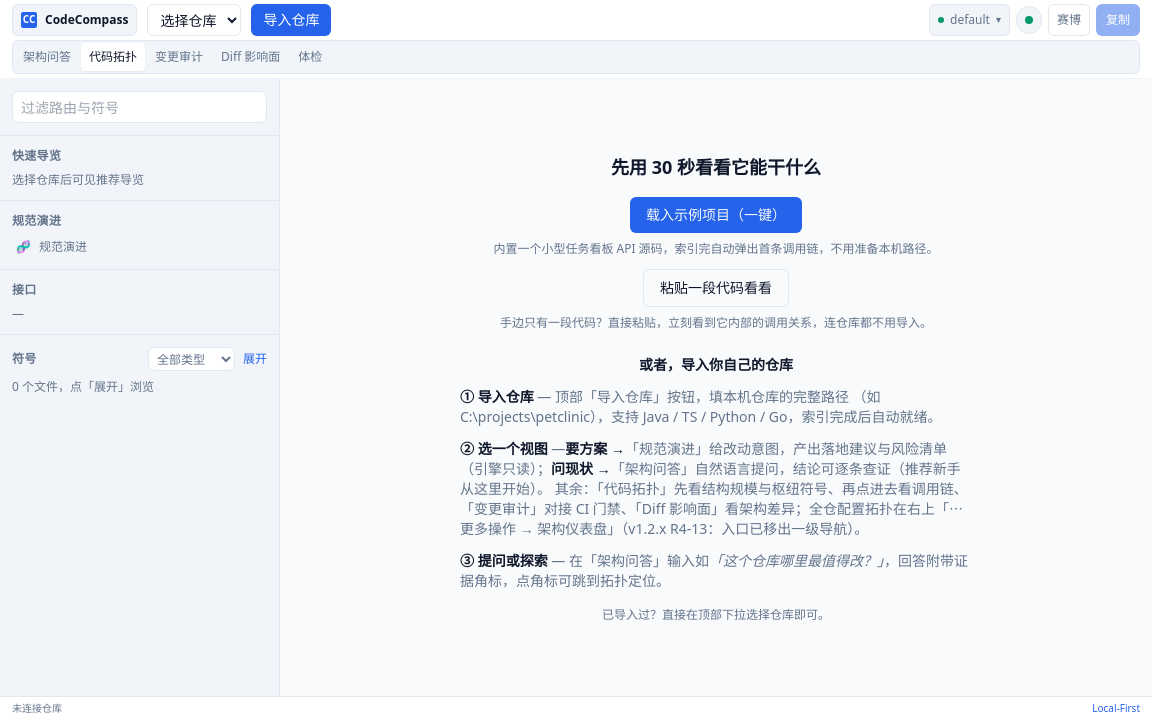
it: App scaffold and repo connect › surfaces a clone failure without closing the dialog (Issue 19)
Click the button with test id "open-import".
click(291, 20)  # box [251,4,331,36]
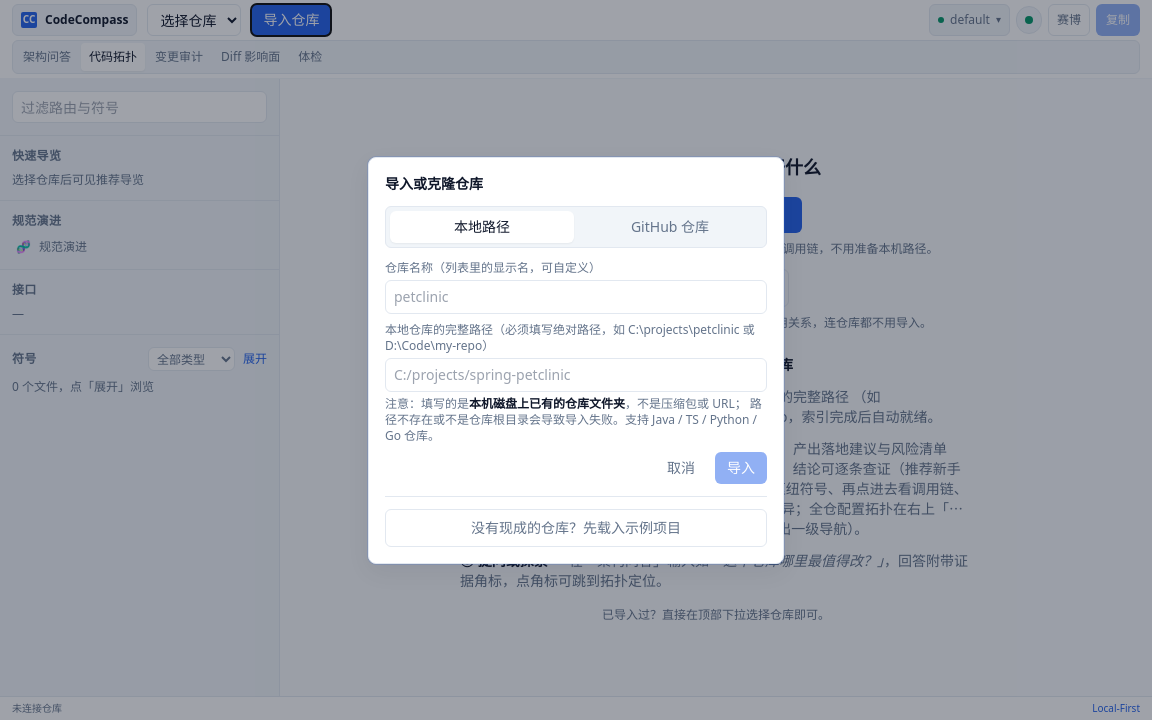
Click the tab with test id "import-tab-remote".
click(670, 226)  # box [578,210,762,242]
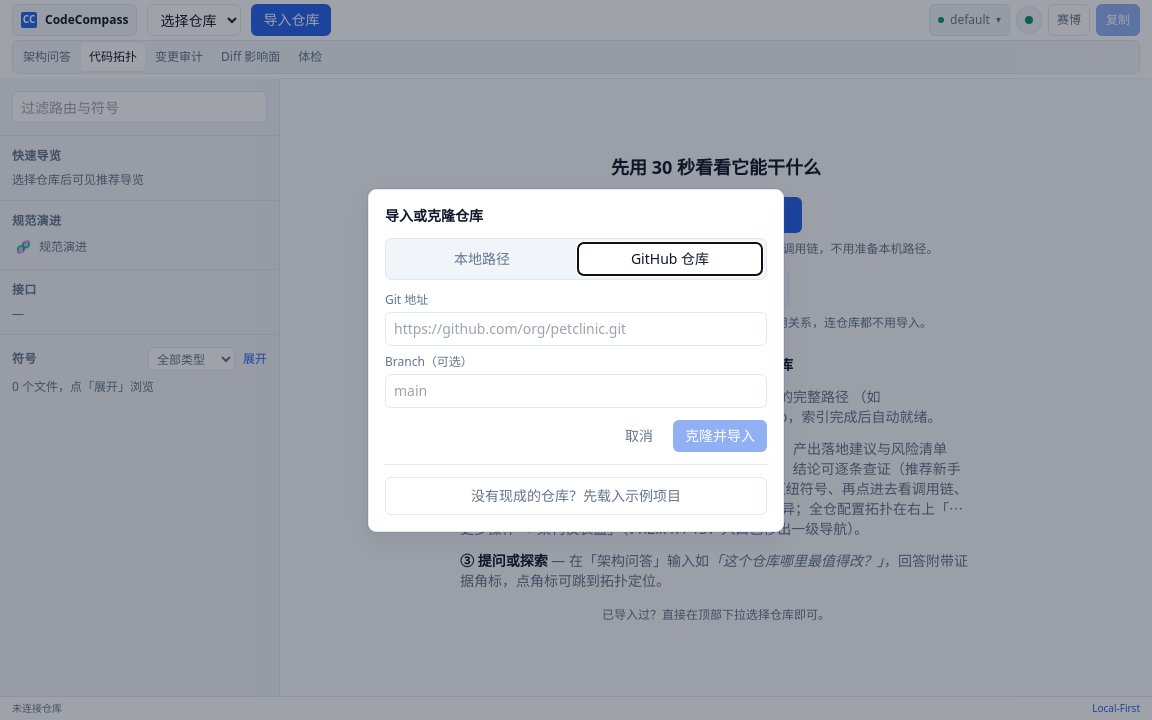
Type "https://github.com/org/nope.git" into the field with test id "import-url".
click(576, 328); type("https://github.com/org/nope.git")  # box [385,312,767,346]
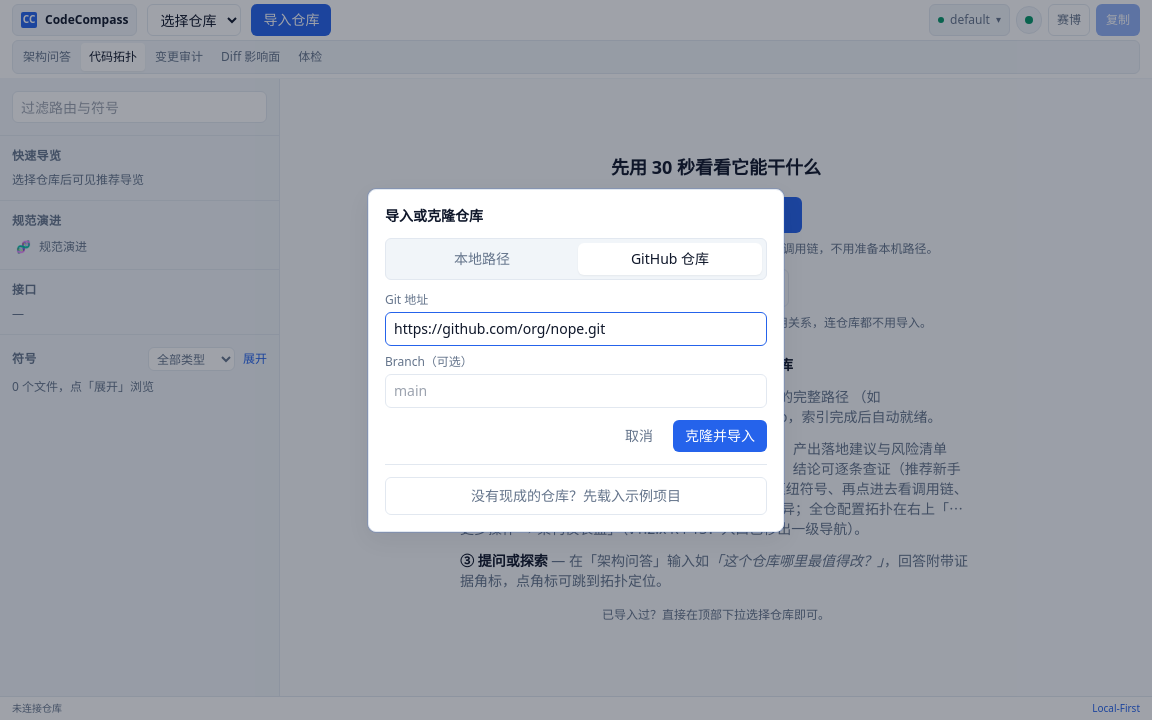
Click the button with test id "import-clone-submit".
click(720, 436)  # box [673,420,767,452]
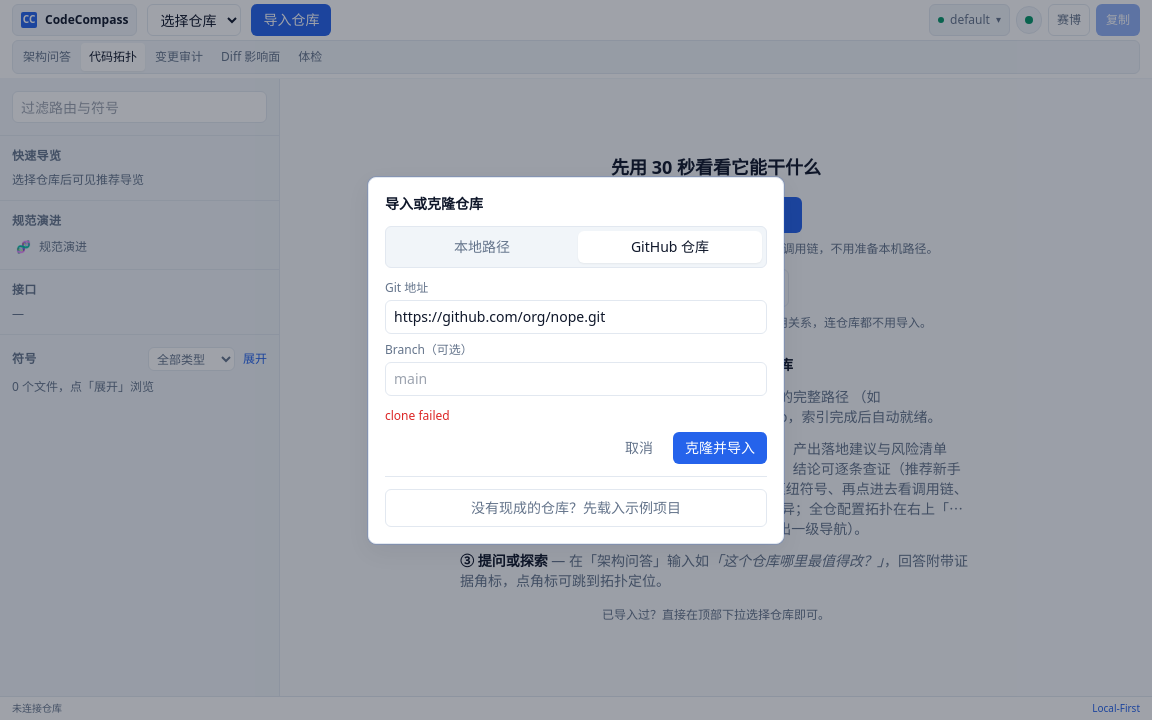
Now the dialog with test id "import-dialog" is shown
Now the dialog with test id "import-dialog" shows "clone failed", box [385,406,450,424]
